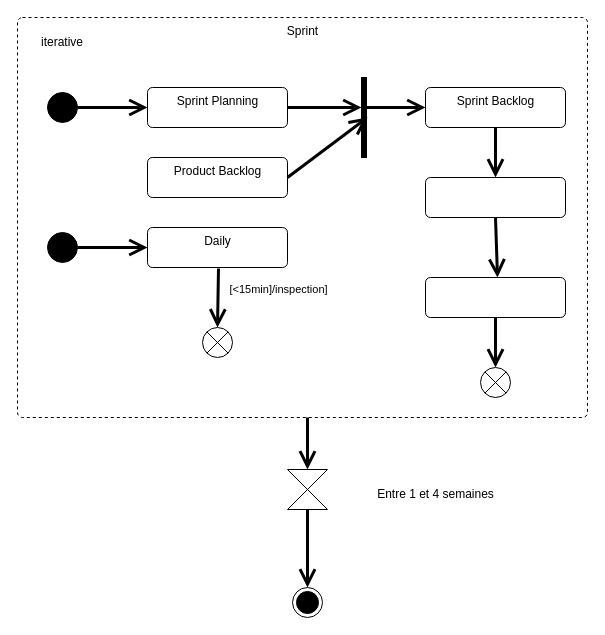
Some shapes in this 605 by 635 pixel diagram are drawn without their labels. The box of each missing label's shape, as (x1, y1, x2, y2) in pixels:
Sprint retrospective: (424, 276, 566, 318)
Sprint Review: (424, 176, 566, 218)
